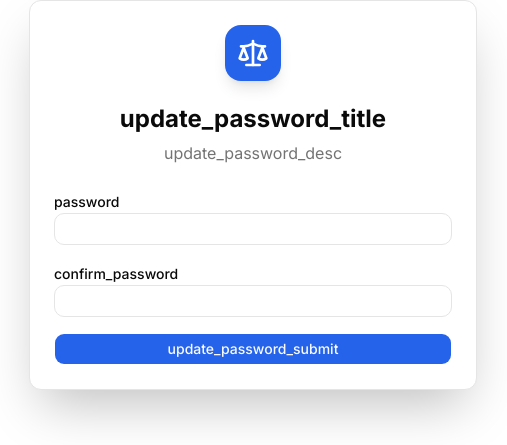
Test case: UpdatePasswordPage › updates password when fields match
Expected: the heading "update_password_title" is shown, left=120, top=104, right=386, bottom=133
Type "password123" into the password field labelled "password". click: (253, 229)
box: left=54, top=213, right=452, bottom=245
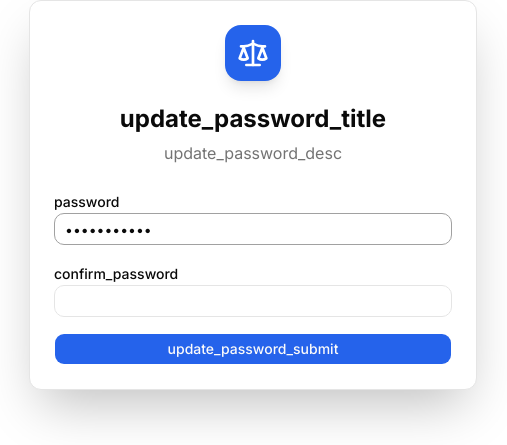
Type "password123" into the password field labelled "confirm_password". click: (253, 301)
box: left=54, top=285, right=452, bottom=317
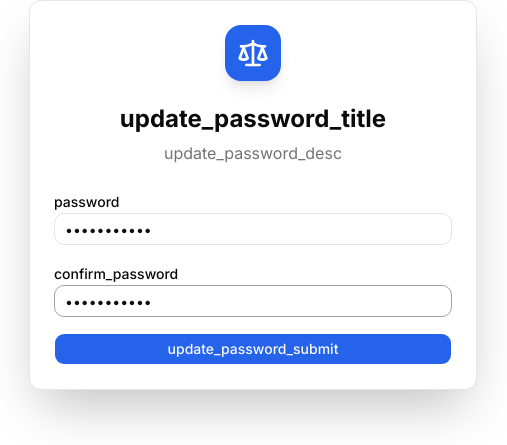
Click the button "update_password_submit". click: (253, 349)
box: left=54, top=333, right=452, bottom=365
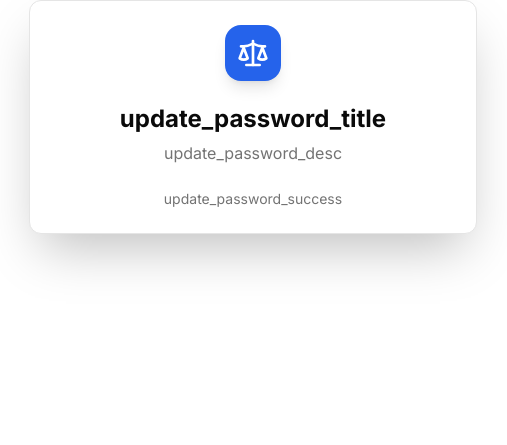
Now the text "update_password_success" is shown, box left=164, top=190, right=342, bottom=207
